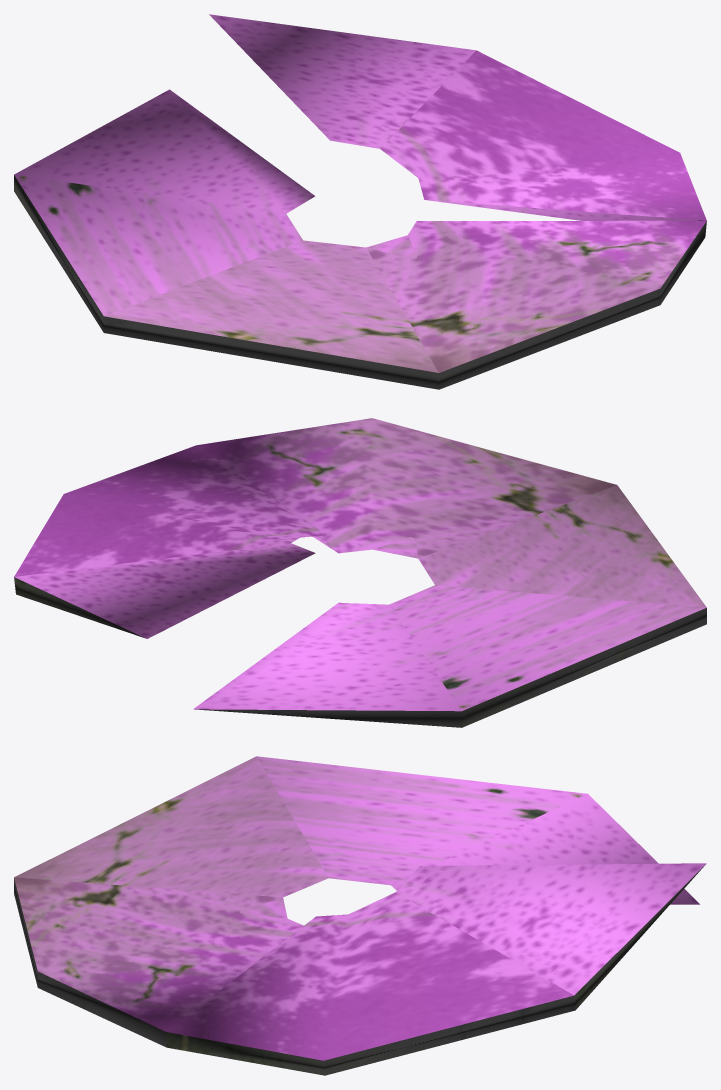
The picture shows the model from 3 angles, top to bottom: view 1: azimuth 30°, elevation 25°; view 2: azimuth 150°, elevation 25°; view 3: azimuth 270°, elevation 25°; orthographic projection.
Parts seen in each view (by area): view 1: cd_04; view 2: cd_04; view 3: cd_04.
Part boxes in pixels (left/top/right/bottom): cd_04: left=14, top=14, right=706, bottom=389; cd_04: left=14, top=418, right=706, bottom=727; cd_04: left=14, top=756, right=706, bottom=1075.
Size of the model in its own units: 0.1286 by 0.0181 by 0.128.
